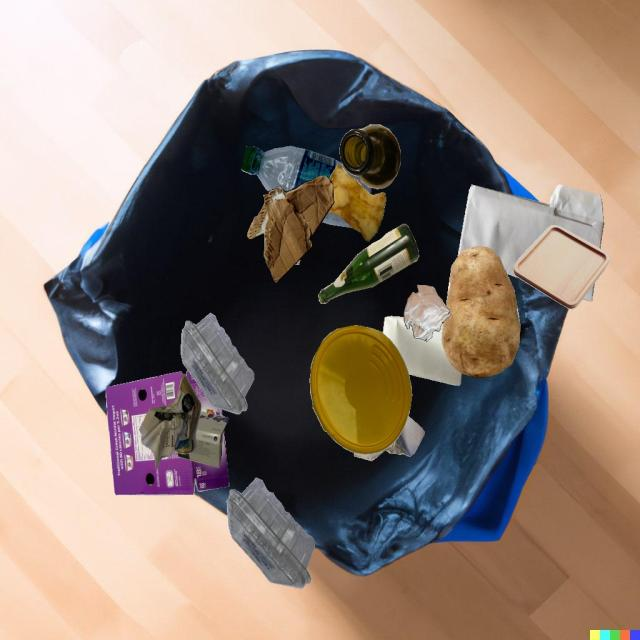biowaste: (441, 246, 520, 378), (327, 165, 386, 241)
cardboard: (105, 371, 229, 495), (247, 176, 334, 282), (177, 412, 229, 468)
combustible waste: (513, 225, 610, 309)
glass: (318, 224, 419, 304), (339, 124, 401, 189)
paper: (458, 184, 604, 278), (139, 373, 201, 471), (383, 316, 462, 386), (354, 416, 425, 461), (404, 285, 451, 342)
plastic: (310, 325, 412, 455), (227, 477, 315, 588), (181, 313, 254, 414), (241, 146, 371, 194), (295, 259, 301, 265)
